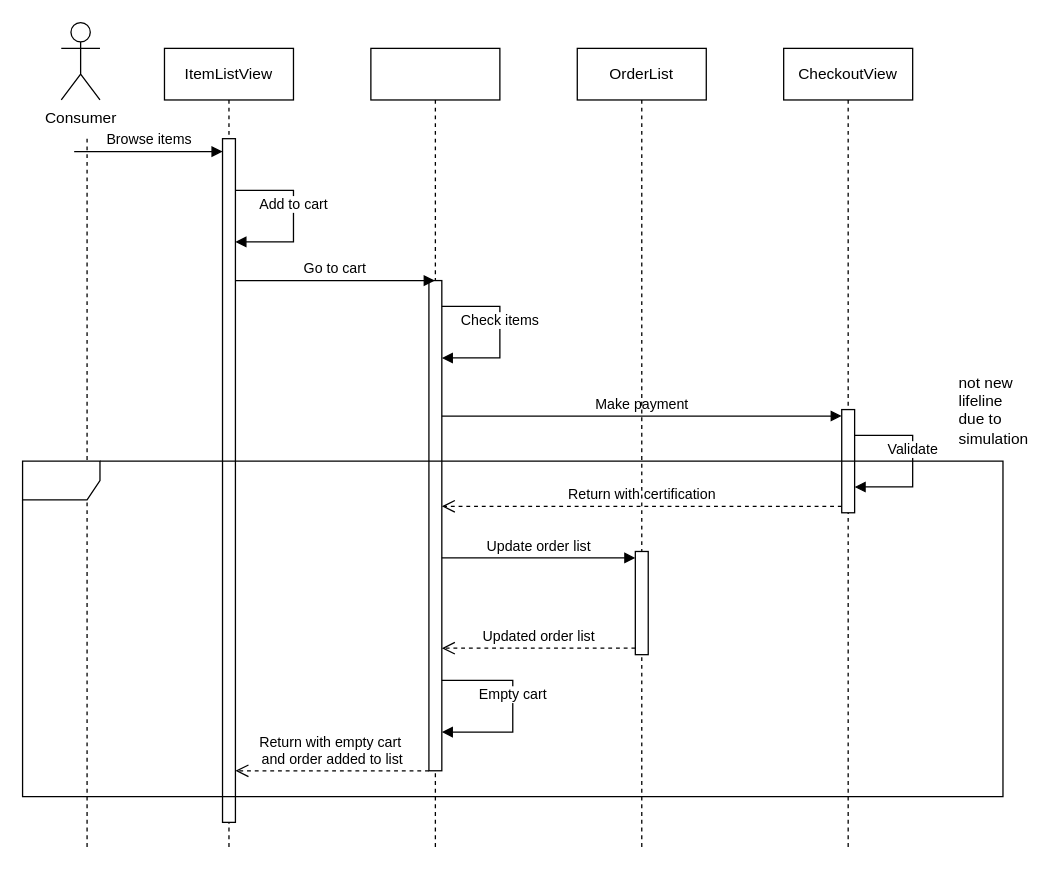
This 1064x872 diagram has some shape labels left out. Each missing label, with the box of its shape:
CartView: (370, 47, 500, 848)
payment valid: (21, 460, 1003, 797)
